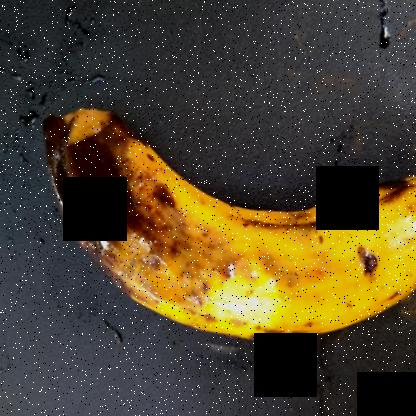overripe: (195, 156, 416, 357)
rotten: (43, 95, 241, 338)
